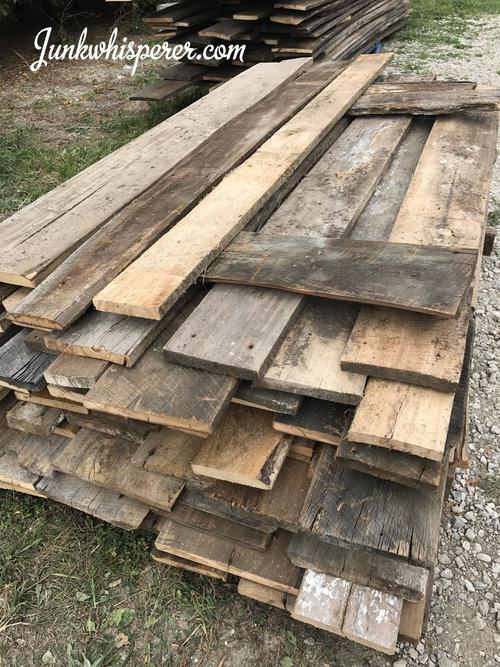wood: (20, 66, 484, 653)
